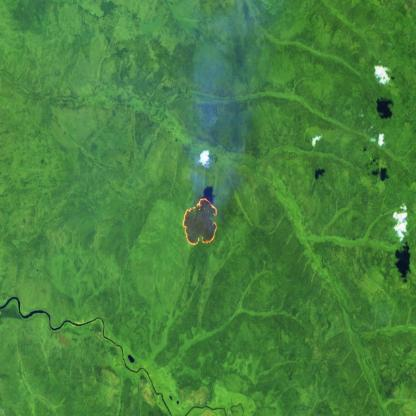fire: (180, 194, 220, 250)
